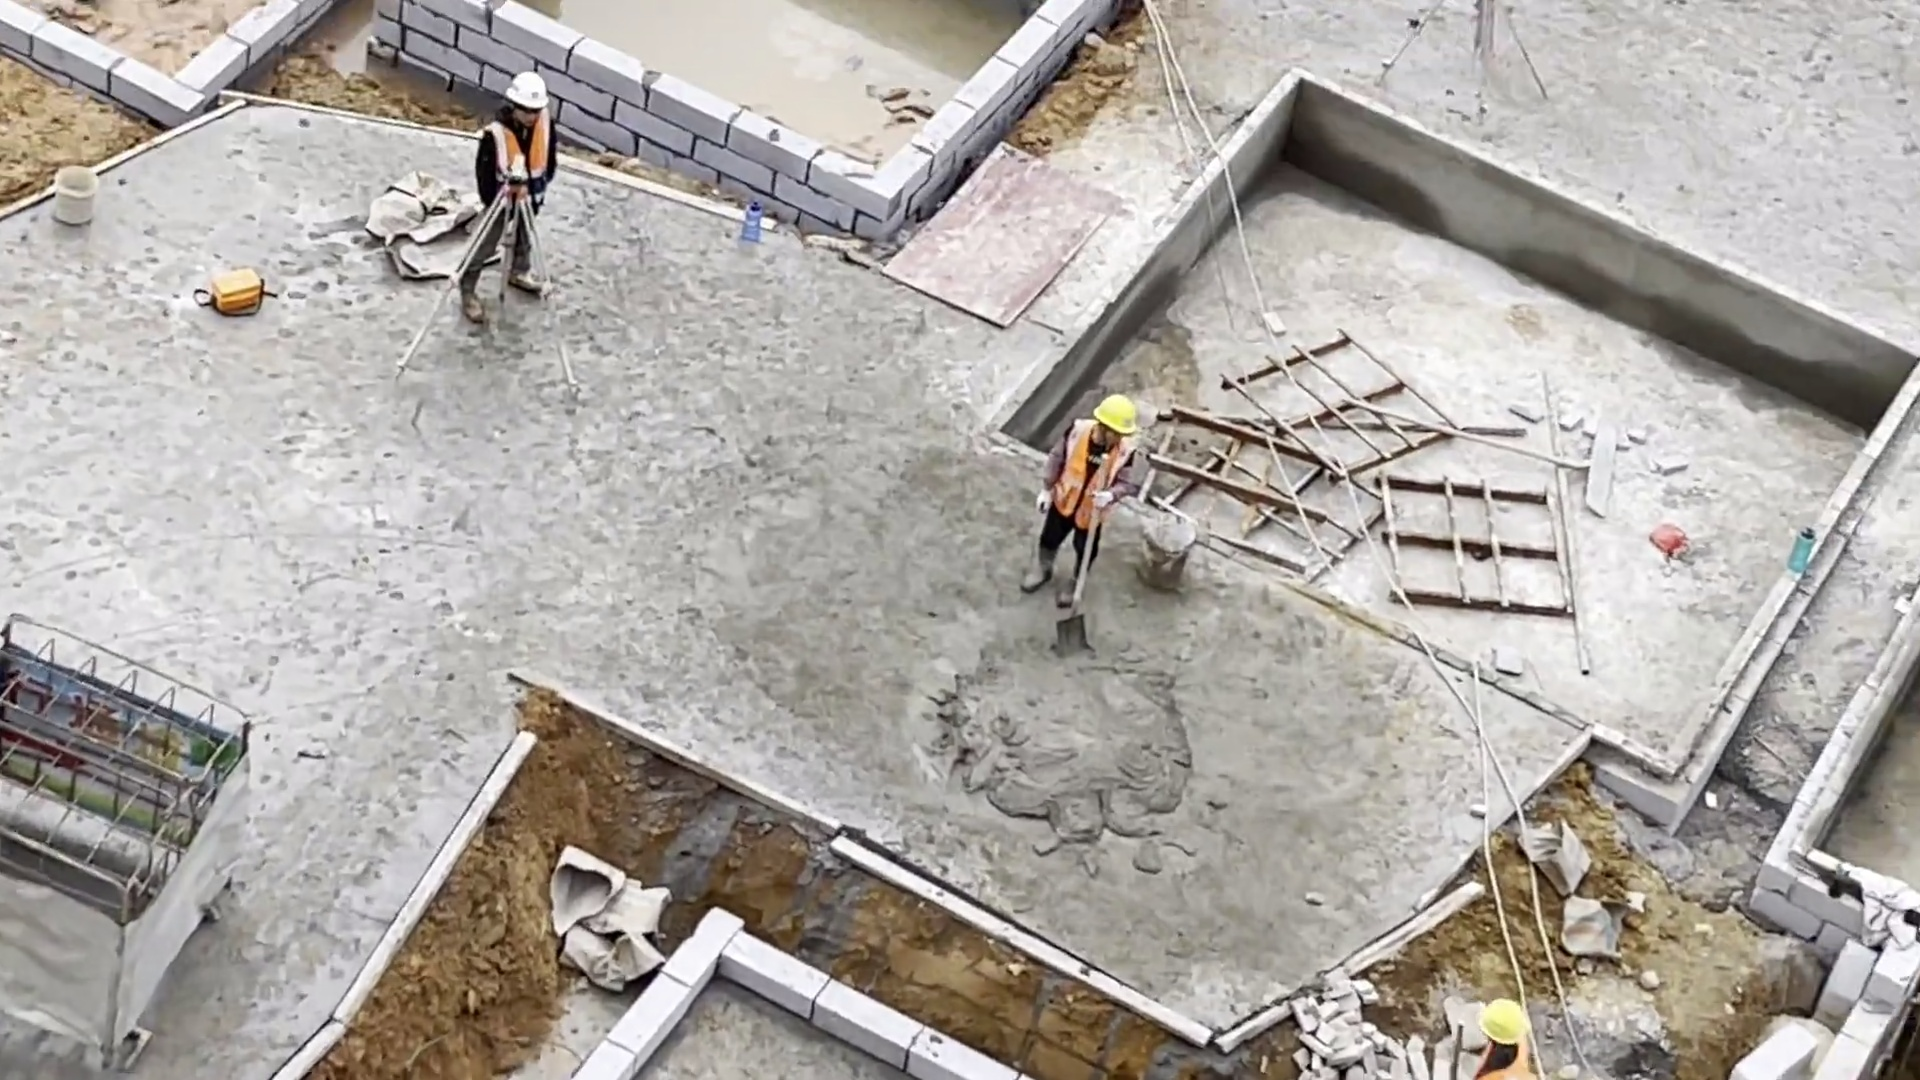helmet: (1095, 396, 1139, 435), (506, 74, 550, 110)
person: (448, 66, 564, 321), (1018, 386, 1140, 596), (1457, 990, 1544, 1080)
vest: (1051, 419, 1140, 539), (485, 112, 551, 209)
